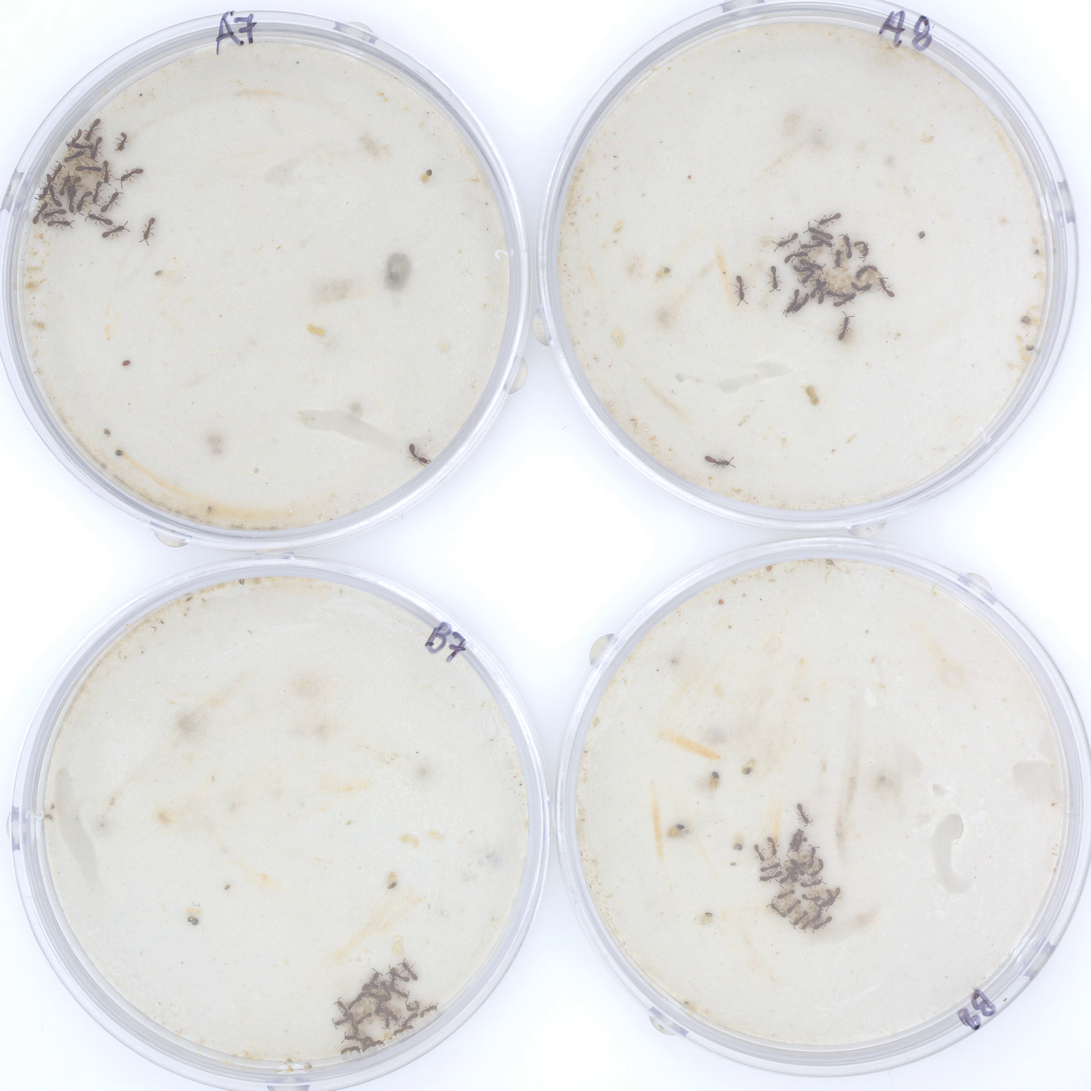brood: (797, 234, 880, 299), (38, 144, 103, 220), (771, 848, 828, 926), (342, 983, 401, 1044)
